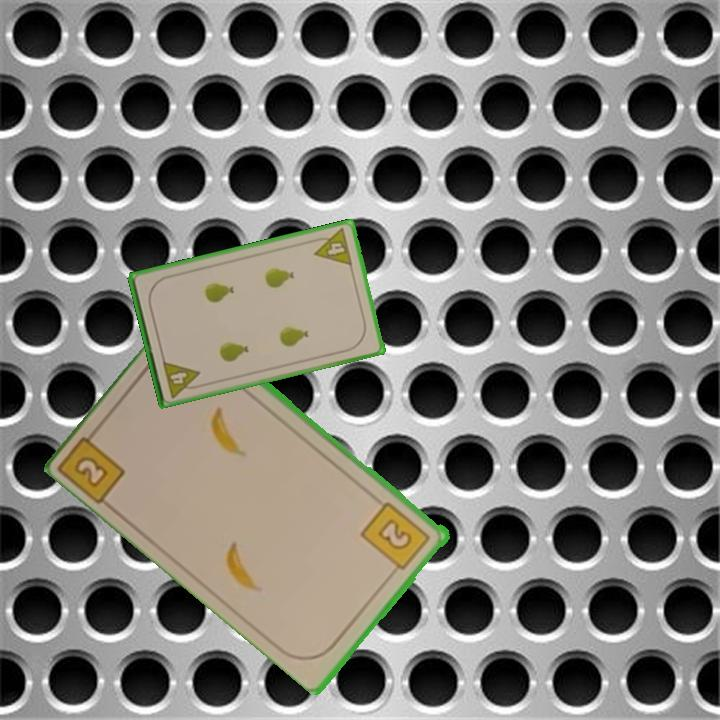2b: (58, 421, 129, 507), (358, 498, 434, 578)
4p: (308, 225, 355, 269), (159, 357, 205, 401)
